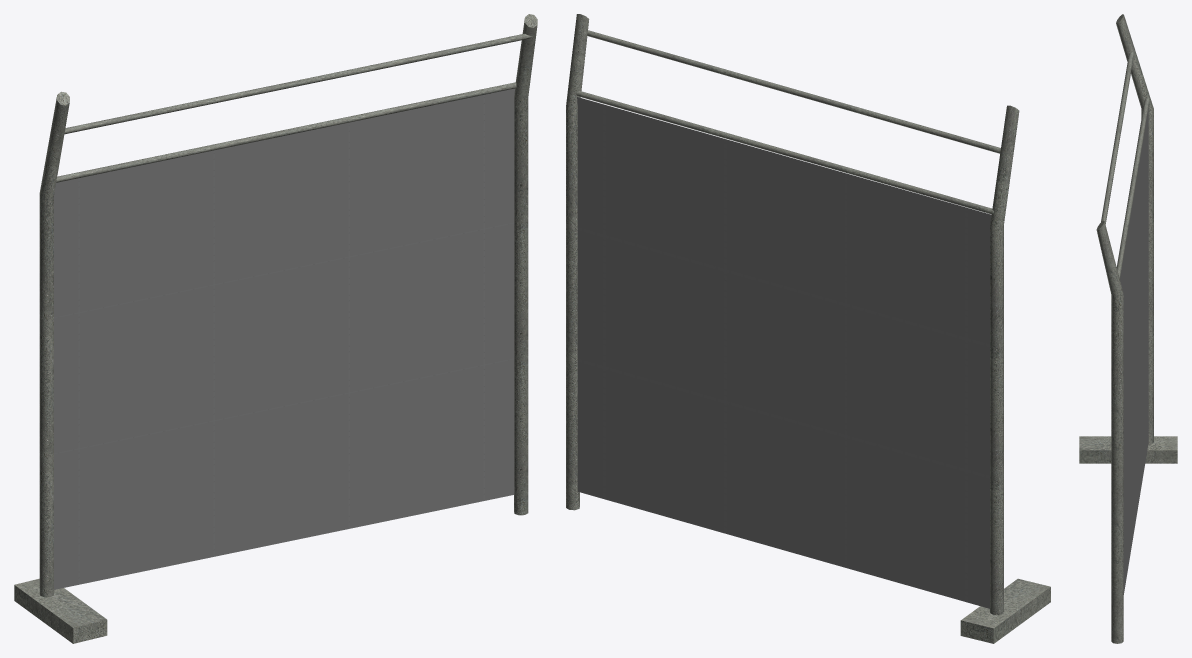
Rendered from CT_Fence_01.fbx.
3 views of the same model, side by side, from view 1: azimuth 30°, elevation 25°; view 2: azimuth 150°, elevation 25°; view 3: azimuth 270°, elevation 25° (orthographic). The views are drawn at different scales.
Parts seen in each view (by area): view 1: CT_Fence_01; view 2: CT_Fence_01; view 3: CT_Fence_01.
Boxes of the visible parts, bbox=[...] form: CT_Fence_01: bbox=[14, 14, 537, 643]; CT_Fence_01: bbox=[566, 14, 1050, 643]; CT_Fence_01: bbox=[1079, 14, 1177, 643].
Size of the model in its own units: 367 by 389 by 78.61.
